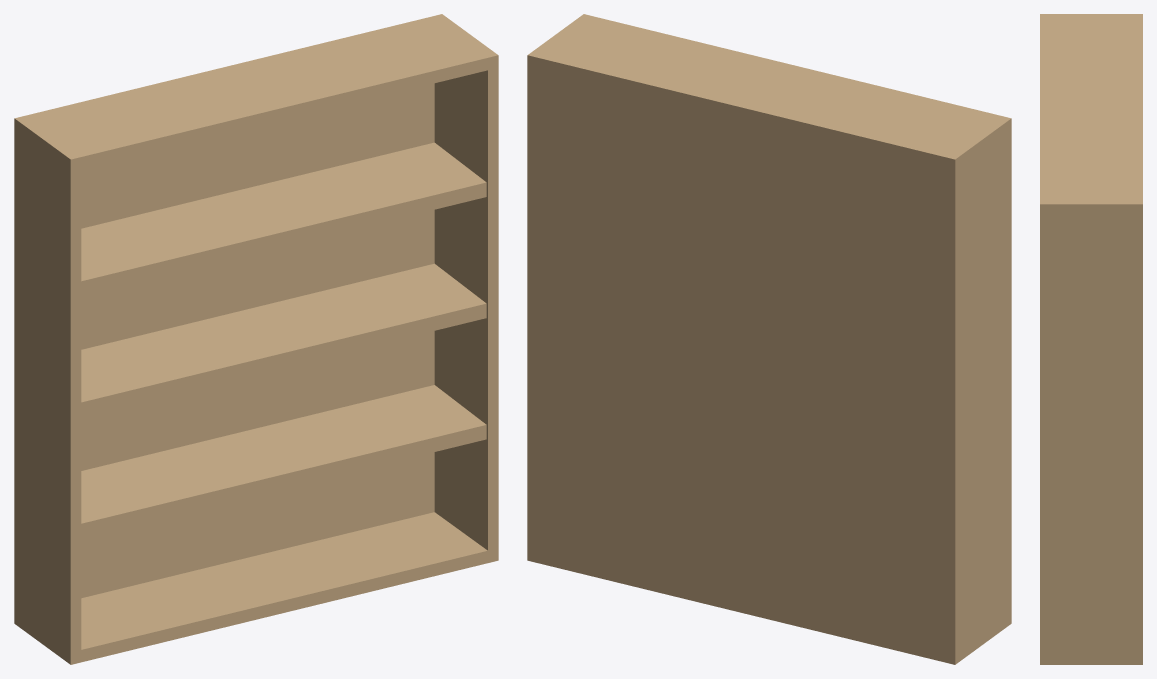
File: LargeShelves.fbx
3 renders of one model, left to right at view 1: azimuth 30°, elevation 25°; view 2: azimuth 150°, elevation 25°; view 3: azimuth 270°, elevation 25°, orthographic. The views are drawn at different scales.
Parts seen in each view (by area): view 1: Cube; view 2: Cube; view 3: Cube.
Boxes of the visible parts, left/top/right/bottom form: Cube: left=14, top=14, right=498, bottom=664; Cube: left=527, top=14, right=1011, bottom=664; Cube: left=1040, top=14, right=1142, bottom=664.
Bounding box in the file's own units: 1283 × 1449 × 293.
